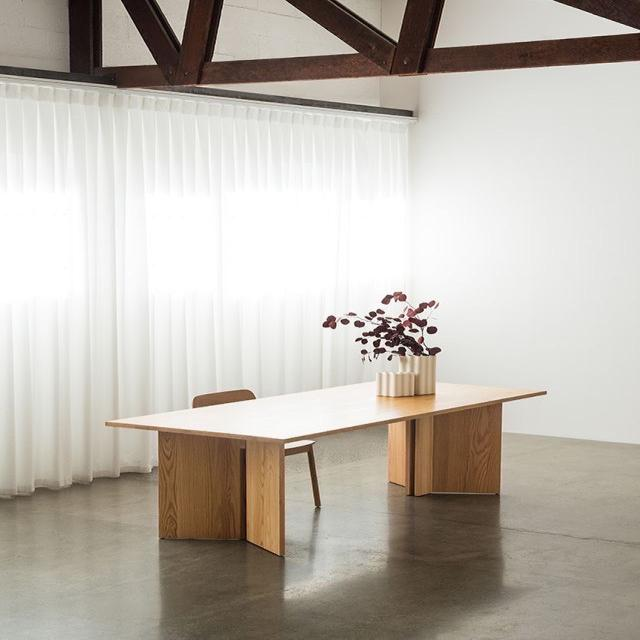table: (86, 351, 603, 571)
